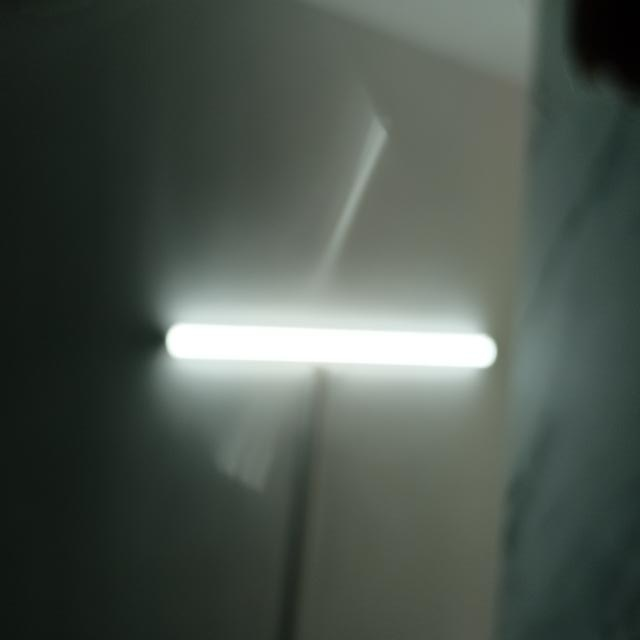fluorescent tube: (150, 298, 502, 391)
